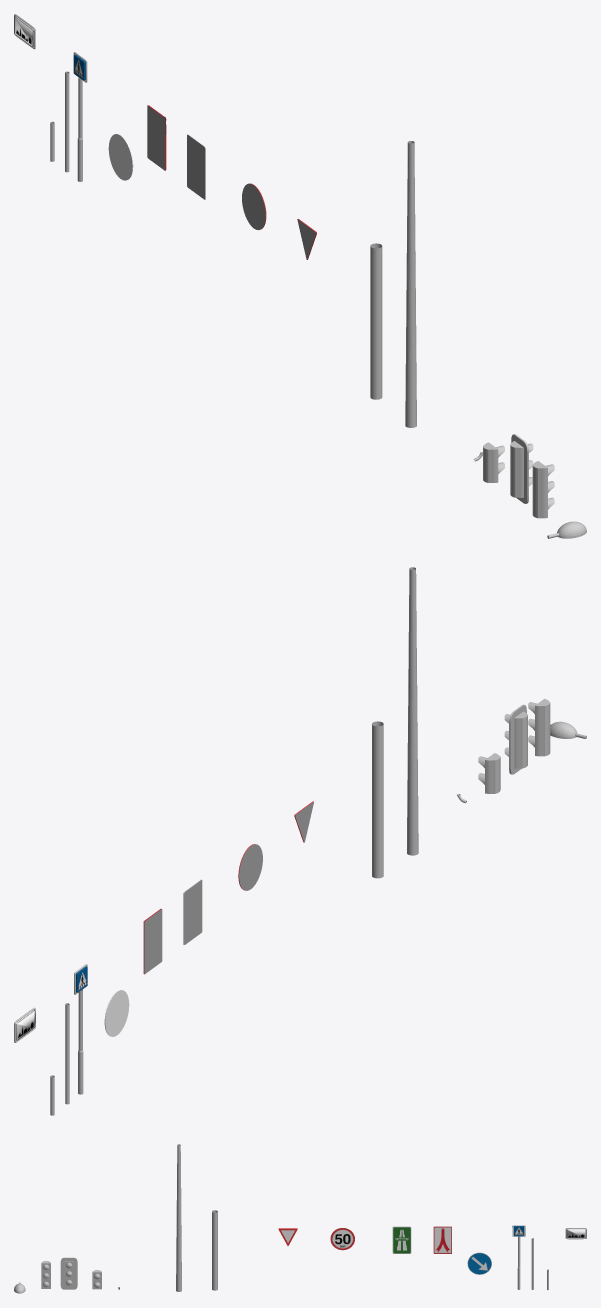
File: TrafficAssets.fbx
3 views of the same model, one above another, from view 1: azimuth 30°, elevation 25°; view 2: azimuth 150°, elevation 25°; view 3: azimuth 270°, elevation 25° (orthographic). The views are drawn at different scales.
Visible parts, largest first — view 1: Pole1, Pole2, Lysboks2, MotorvejSammenfletning, Lysboks1, Motorvej, Hastighedskilt, FølgPilen, Lysboks3; view 2: Pole1, Pole2, Lysboks2, Motorvej, MotorvejSammenfletning, Lysboks1, FølgPilen, Hastighedskilt, Lysboks3; view 3: Pole1, Lysboks2, Motorvej, MotorvejSammenfletning, Pole2, FølgPilen, Hastighedskilt, Lysboks1, Byskilt.
Part boxes in pixels (x1=…): Pole1: x1=405, y1=141, x2=416, y2=427; Pole2: x1=370, y1=243, x2=382, y2=399; Lysboks2: x1=510, y1=434, x2=533, y2=503; MotorvejSammenfletning: x1=147, y1=105, x2=166, y2=170; Lysboks1: x1=532, y1=461, x2=554, y2=518; Motorvej: x1=187, y1=134, x2=205, y2=199; Hastighedskilt: x1=242, y1=183, x2=266, y2=230; FølgPilen: x1=108, y1=134, x2=133, y2=180; Lysboks3: x1=483, y1=442, x2=504, y2=482; Pole1: x1=407, y1=567, x2=418, y2=855; Pole2: x1=372, y1=721, x2=383, y2=878; Lysboks2: x1=504, y1=704, x2=527, y2=774; Motorvej: x1=183, y1=879, x2=202, y2=944; MotorvejSammenfletning: x1=143, y1=909, x2=162, y2=974; Lysboks1: x1=528, y1=698, x2=550, y2=756; FølgPilen: x1=104, y1=990, x2=129, y2=1036; Hastighedskilt: x1=238, y1=844, x2=262, y2=890; Lysboks3: x1=478, y1=753, x2=500, y2=793; Pole1: x1=176, y1=1144, x2=181, y2=1291; Lysboks2: x1=60, y1=1257, x2=77, y2=1289; Motorvej: x1=392, y1=1226, x2=411, y2=1253; MotorvejSammenfletning: x1=433, y1=1226, x2=451, y2=1253; Pole2: x1=212, y1=1210, x2=217, y2=1290; FølgPilen: x1=467, y1=1252, x2=491, y2=1274; Hastighedskilt: x1=330, y1=1228, x2=354, y2=1250; Lysboks1: x1=41, y1=1260, x2=50, y2=1288; Byskilt: x1=565, y1=1228, x2=586, y2=1239.
Size of the model in its own units: 77.07 by 554 by 1977.
